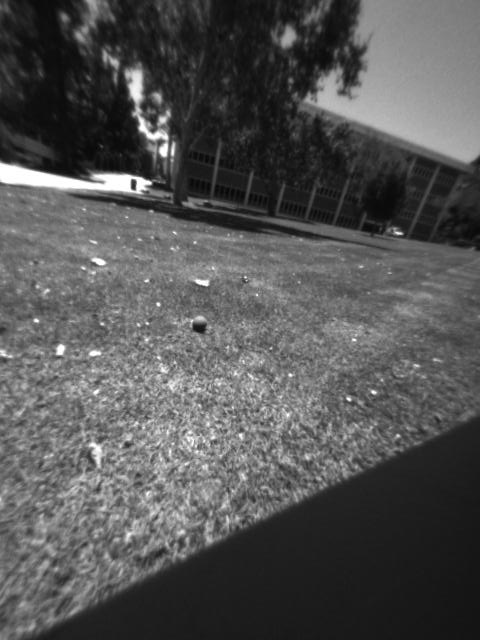dogtoy: (180, 306, 217, 338)
